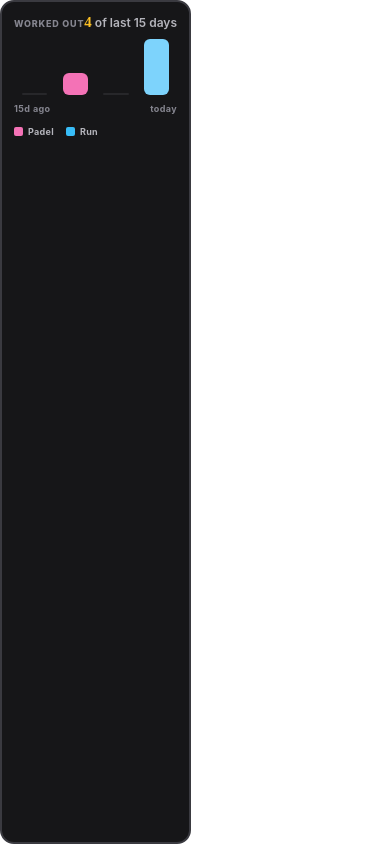
MovementConsistency › reveals a bar's details on tap (not shown before)
Expected: the text "+1 more" is not shown
Click the element named "Run +1 more": (157, 67) [144,39,169,95]
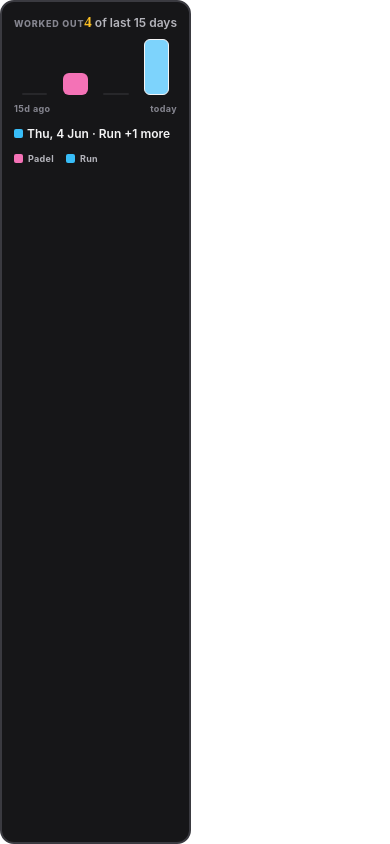
Now the text "Thu, 4 Jun · Run +1 more" is shown, box [27,126,170,141]
